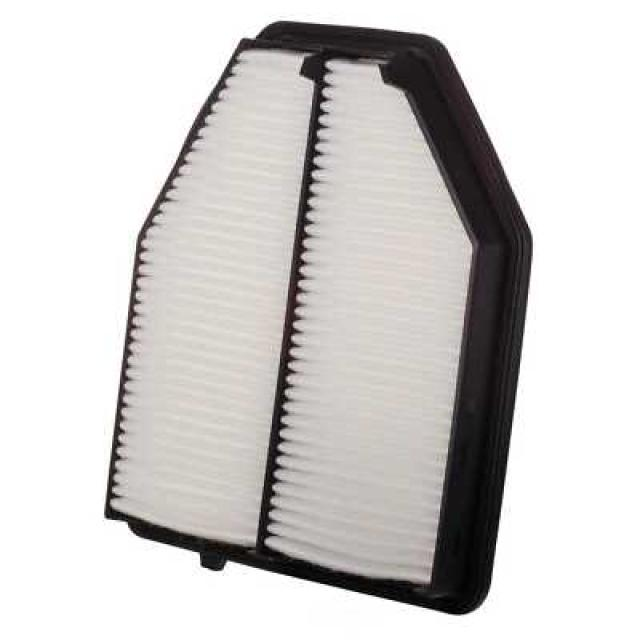air_filter: (113, 7, 528, 623)
